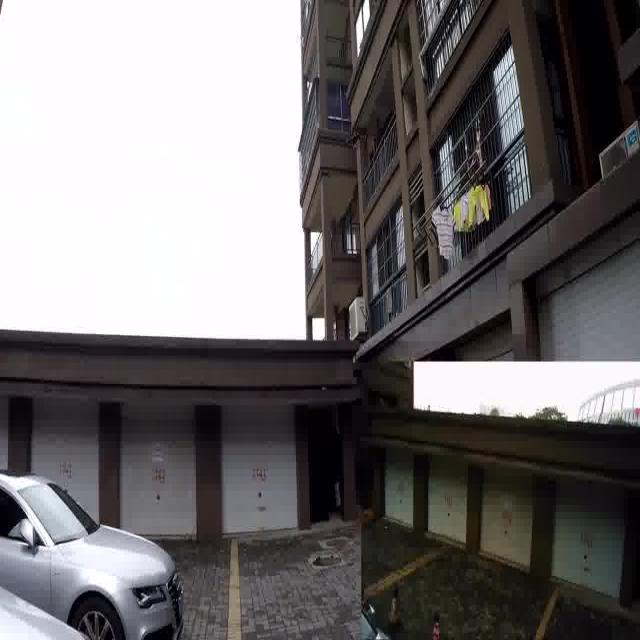drones: (339, 120, 366, 157)
